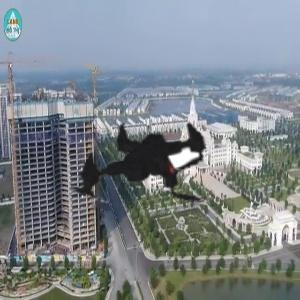drone: (39, 69, 252, 282)
